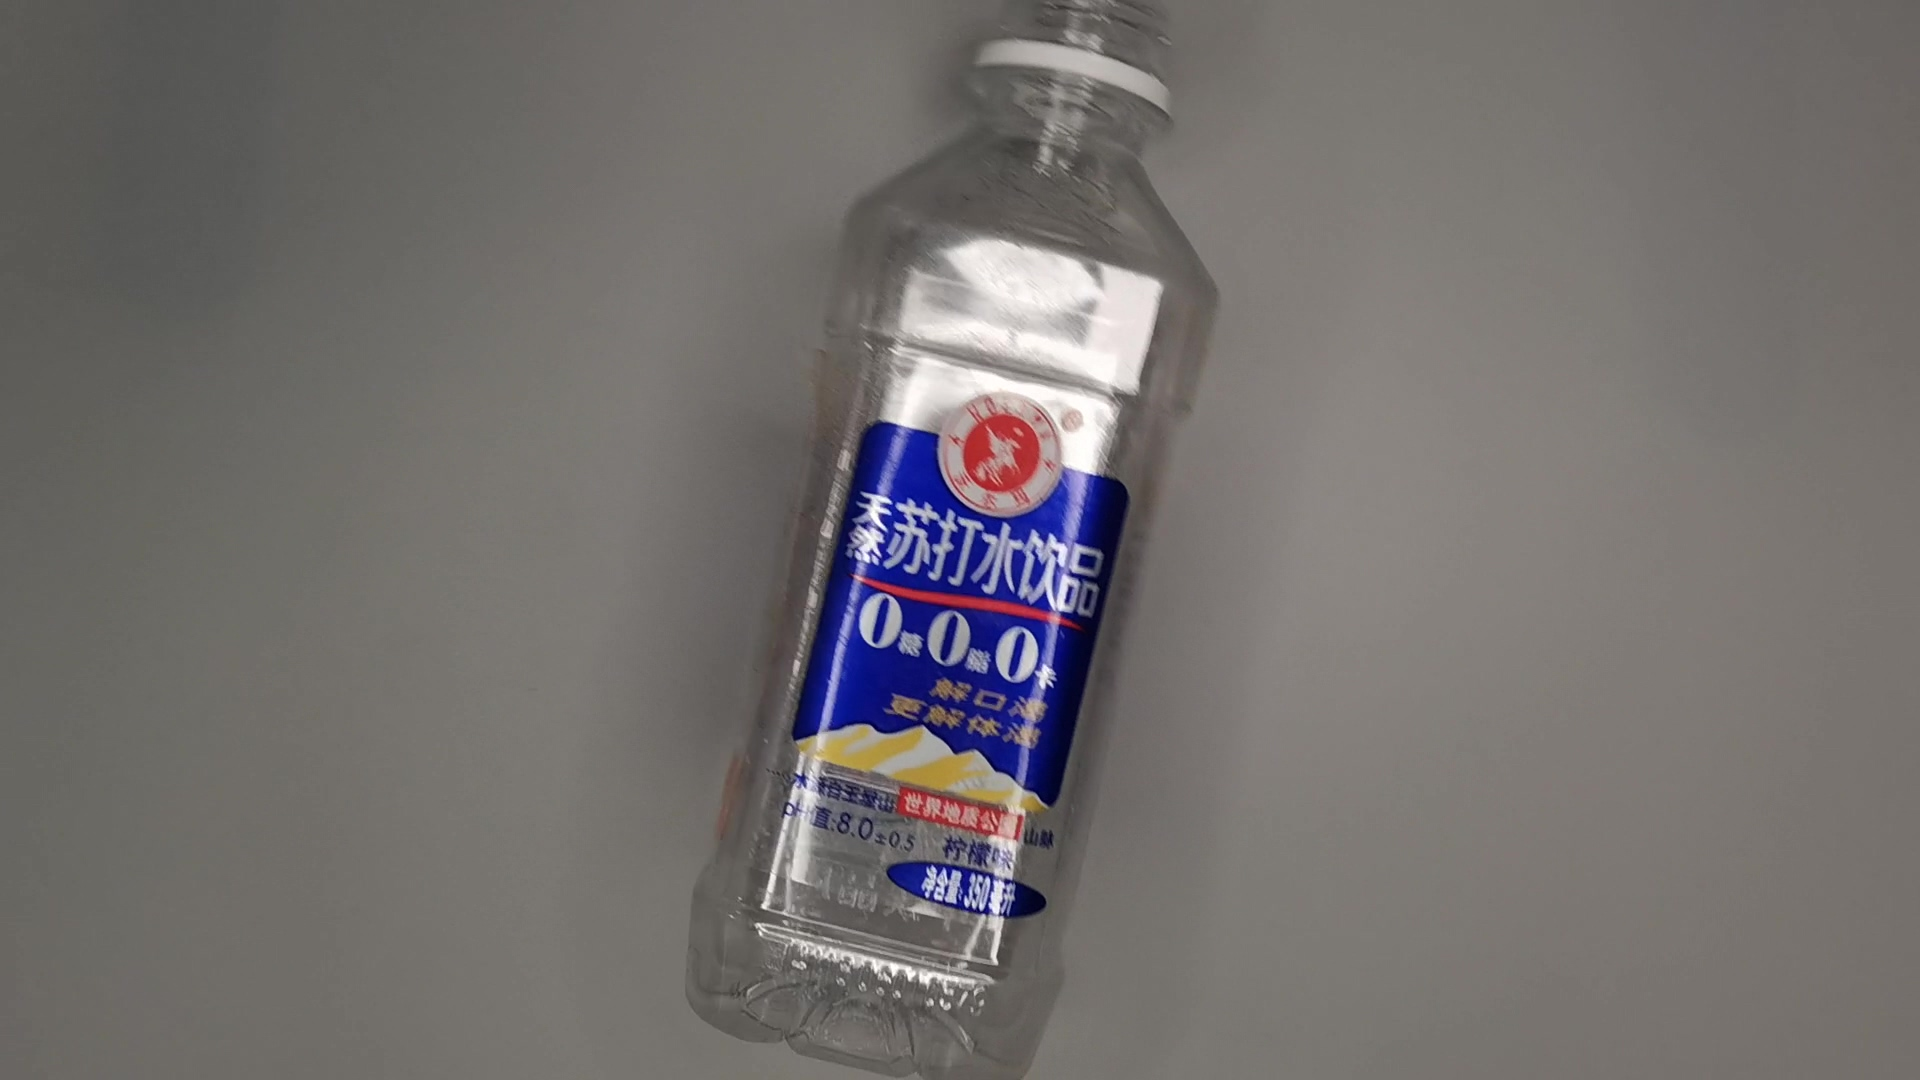bottle: (680, 1, 1226, 1080)
